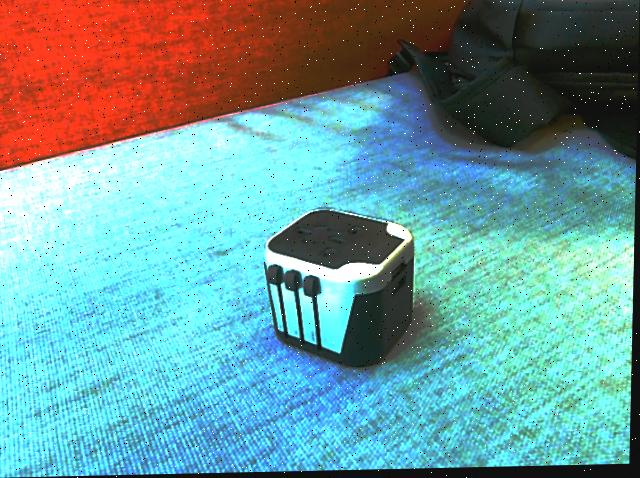adapter: (261, 207, 417, 371)
